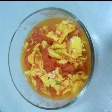fanqiechaojidan: (20, 13, 92, 101)
